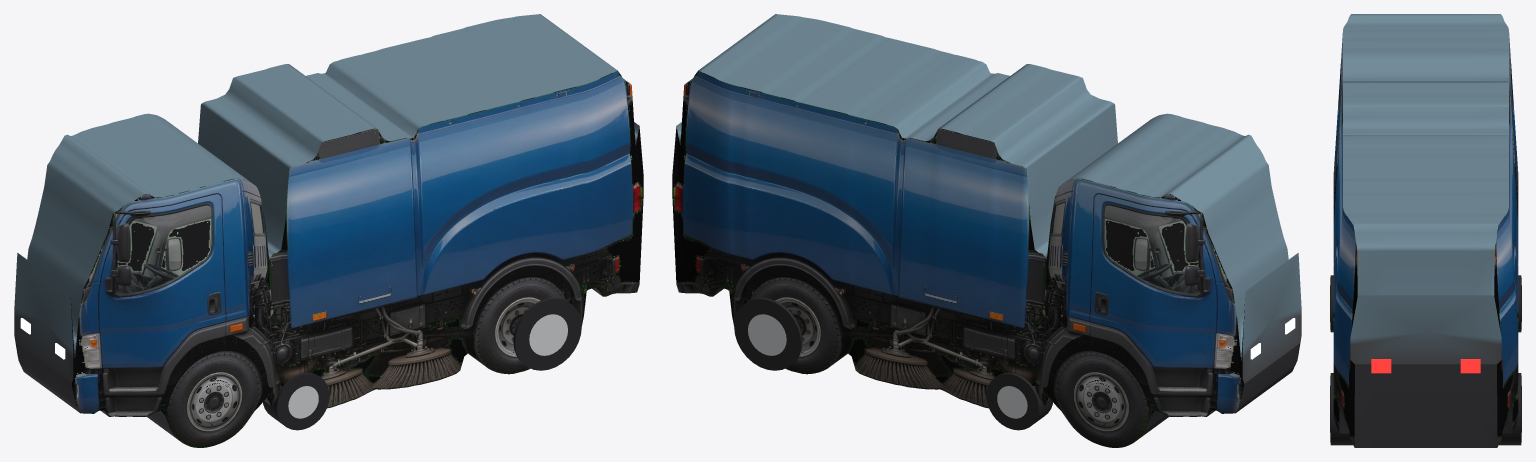
The model's file is sweeper.glb.
3 renders of one model, left to right at view 1: azimuth 30°, elevation 25°; view 2: azimuth 150°, elevation 25°; view 3: azimuth 270°, elevation 25°, orthographic. The views are drawn at different scales.
Visible parts, largest first — view 1: sweeper; view 2: sweeper; view 3: sweeper.
Boxes of the visible parts, bbox=[...] form: sweeper: bbox=[14, 14, 643, 447]; sweeper: bbox=[672, 14, 1301, 447]; sweeper: bbox=[1330, 14, 1521, 447].
Size of the model in its own units: 4.83 by 2.27 by 1.52.
8 materials, 2 textured.
